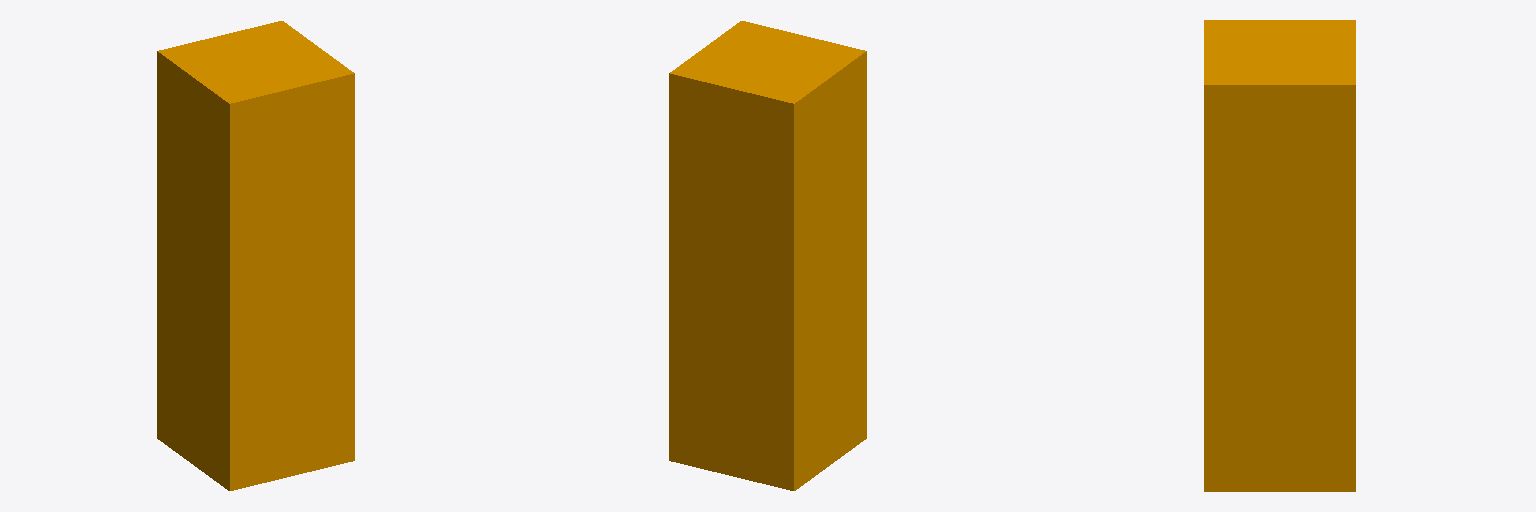
The robot description file, URDF, robot "1_3I_1":
<robot name="1_3I_1">
  <link name="link">
    <visual>
      <geometry>
        <mesh filename="1_3I_1.obj" scale="1 1 1"/>
      </geometry>
    </visual>
    <collision>
      <geometry>
        <mesh filename="1_3I_1.obj" scale="1 1 1"/>
      </geometry>
    </collision>
    <inertial>
      <mass value="1"/>
      <inertia ixx="1" iyy="1" izz="1" ixy="0" ixz="0" iyz="0"/>
      <origin xyz="0 0 0" rpy="0 0 0"/>
    </inertial>
  </link>
</robot>

--- Facts derived from the render (not from the file) ---
The picture shows the robot from 3 angles, left to right: view 1: azimuth 30°, elevation 25°; view 2: azimuth 150°, elevation 25°; view 3: azimuth 270°, elevation 25°; orthographic projection.
Model 1_3I_1 with 1 links and 0 joints (none), rooted at link, posed every joint at zero.
Links seen in each view (by area): view 1: link; view 2: link; view 3: link.
Link boxes in pixels (x1,y1,x2,y2): link: (157,21,354,490); link: (669,21,866,490); link: (1204,20,1355,491).
Bounding box of the posed robot: 0.0597 × 0.0597 × 0.1765 m (x, y, z).
Meshes: 1 distinct files referenced, 1 mesh visuals loaded (1 OBJ).